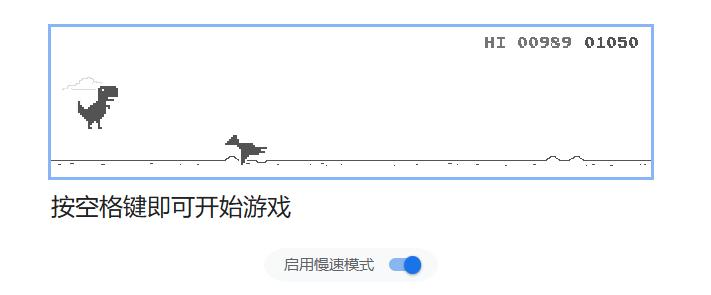bird: (224, 134, 268, 166)
dino: (75, 83, 120, 130)
